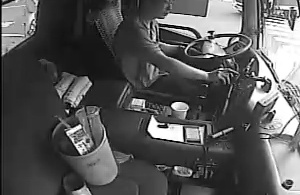paper: (145, 114, 207, 147)
